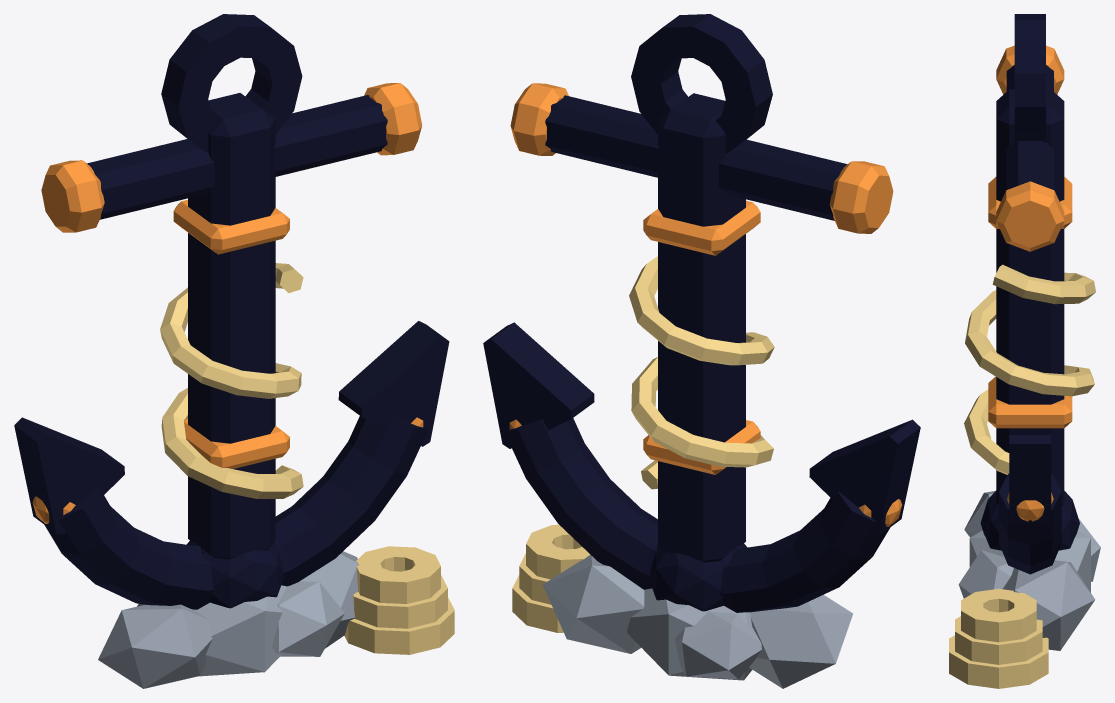
File: Prop_pirate_harbor_GiantAnchor.glb
3 views of the same model, side by side, from view 1: azimuth 30°, elevation 25°; view 2: azimuth 150°, elevation 25°; view 3: azimuth 270°, elevation 25° (orthographic). The views are drawn at different scales.
Visible parts, largest first — view 1: Iron_0D0F2B, Rope_F4D58A, Stone_9AA4B2, HarborOrange_FF9A3D; view 2: Iron_0D0F2B, Stone_9AA4B2, Rope_F4D58A, HarborOrange_FF9A3D; view 3: Iron_0D0F2B, Rope_F4D58A, HarborOrange_FF9A3D, Stone_9AA4B2.
Boxes of the visible parts, box(x1,y1,x2,y2) form: Iron_0D0F2B: box(14, 14, 449, 609); Rope_F4D58A: box(160, 263, 454, 654); Stone_9AA4B2: box(98, 551, 358, 688); HarborOrange_FF9A3D: box(32, 83, 423, 523); Iron_0D0F2B: box(483, 14, 920, 612); Stone_9AA4B2: box(542, 555, 853, 688); Rope_F4D58A: box(512, 256, 774, 632); HarborOrange_FF9A3D: box(509, 83, 902, 526); Iron_0D0F2B: box(980, 14, 1079, 574); Rope_F4D58A: box(949, 264, 1095, 688); HarborOrange_FF9A3D: box(988, 45, 1072, 521); Stone_9AA4B2: box(958, 491, 1100, 650).
Bounding box in the file's own units: 8.31 × 12.45 × 2.9.
